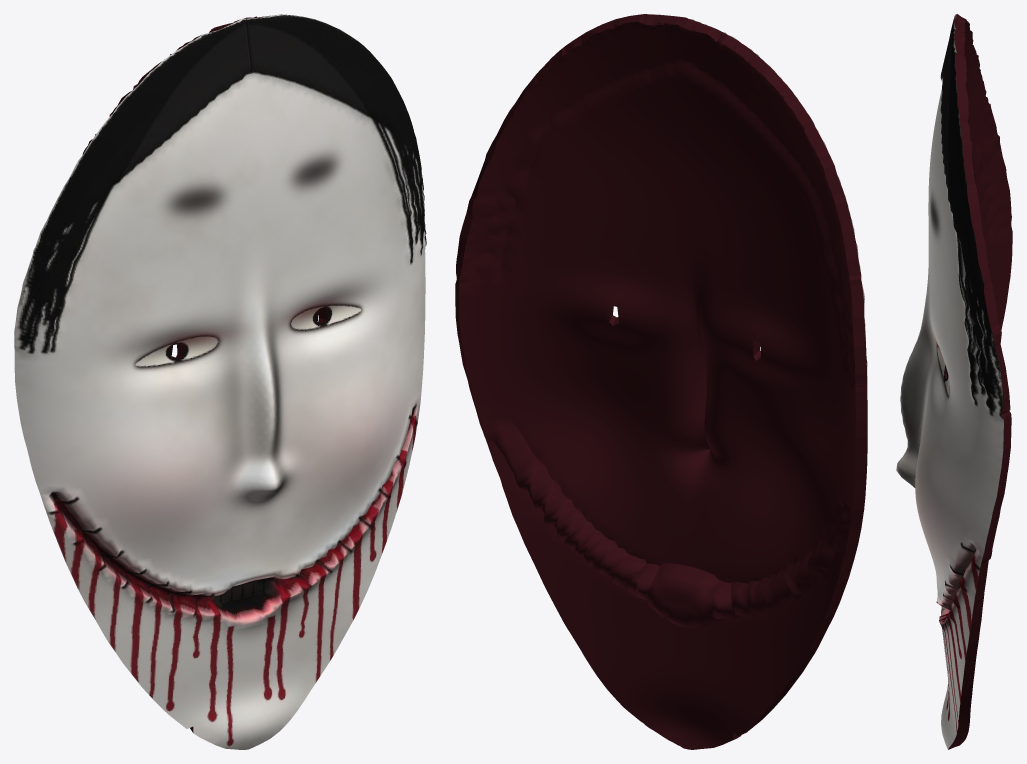
File: 裂け女_sakeonna.glb
3 renders of one model, left to right at view 1: azimuth 30°, elevation 25°; view 2: azimuth 150°, elevation 25°; view 3: azimuth 270°, elevation 25°, orthographic. The views are drawn at different scales.
Parts seen in each view (by area): view 1: sakeonna; view 2: sakeonna; view 3: sakeonna.
Boxes of the visible parts, left/top/right/bottom form: sakeonna: left=14, top=14, right=426, bottom=749; sakeonna: left=455, top=14, right=867, bottom=749; sakeonna: left=896, top=14, right=1012, bottom=749.
Bounding box in the file's own units: 0.1796 × 0.3052 × 0.0451.
1 material, 1 textured.
